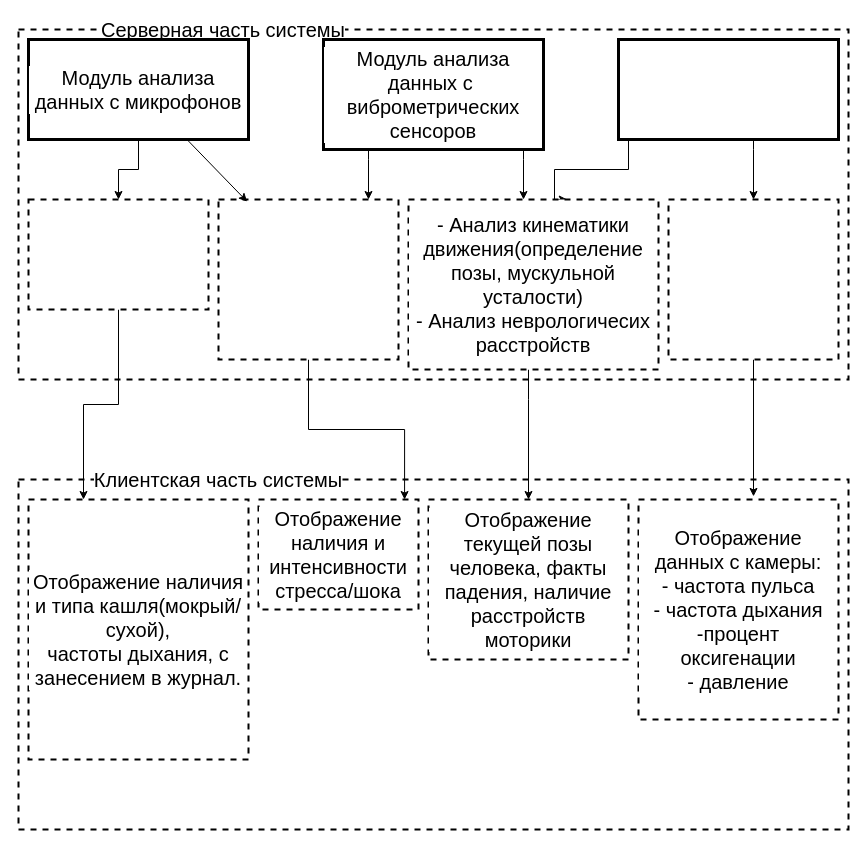
Image size: 866x847. Some labels were removed from this diagram. Here are the shapes that lost their labels. From the top down, the centre of each, then its label:
(728,89): Модуль анализа данных с камер
(118,254): - Обнаружение и анализ кашля - Определение частоты дыхания
(308,279): - Определение состояния шока - Определение наличия и интенсивности стресса
(753,279): Анализ с основной камеры смартфона в режиме съемки ИК-спектре
